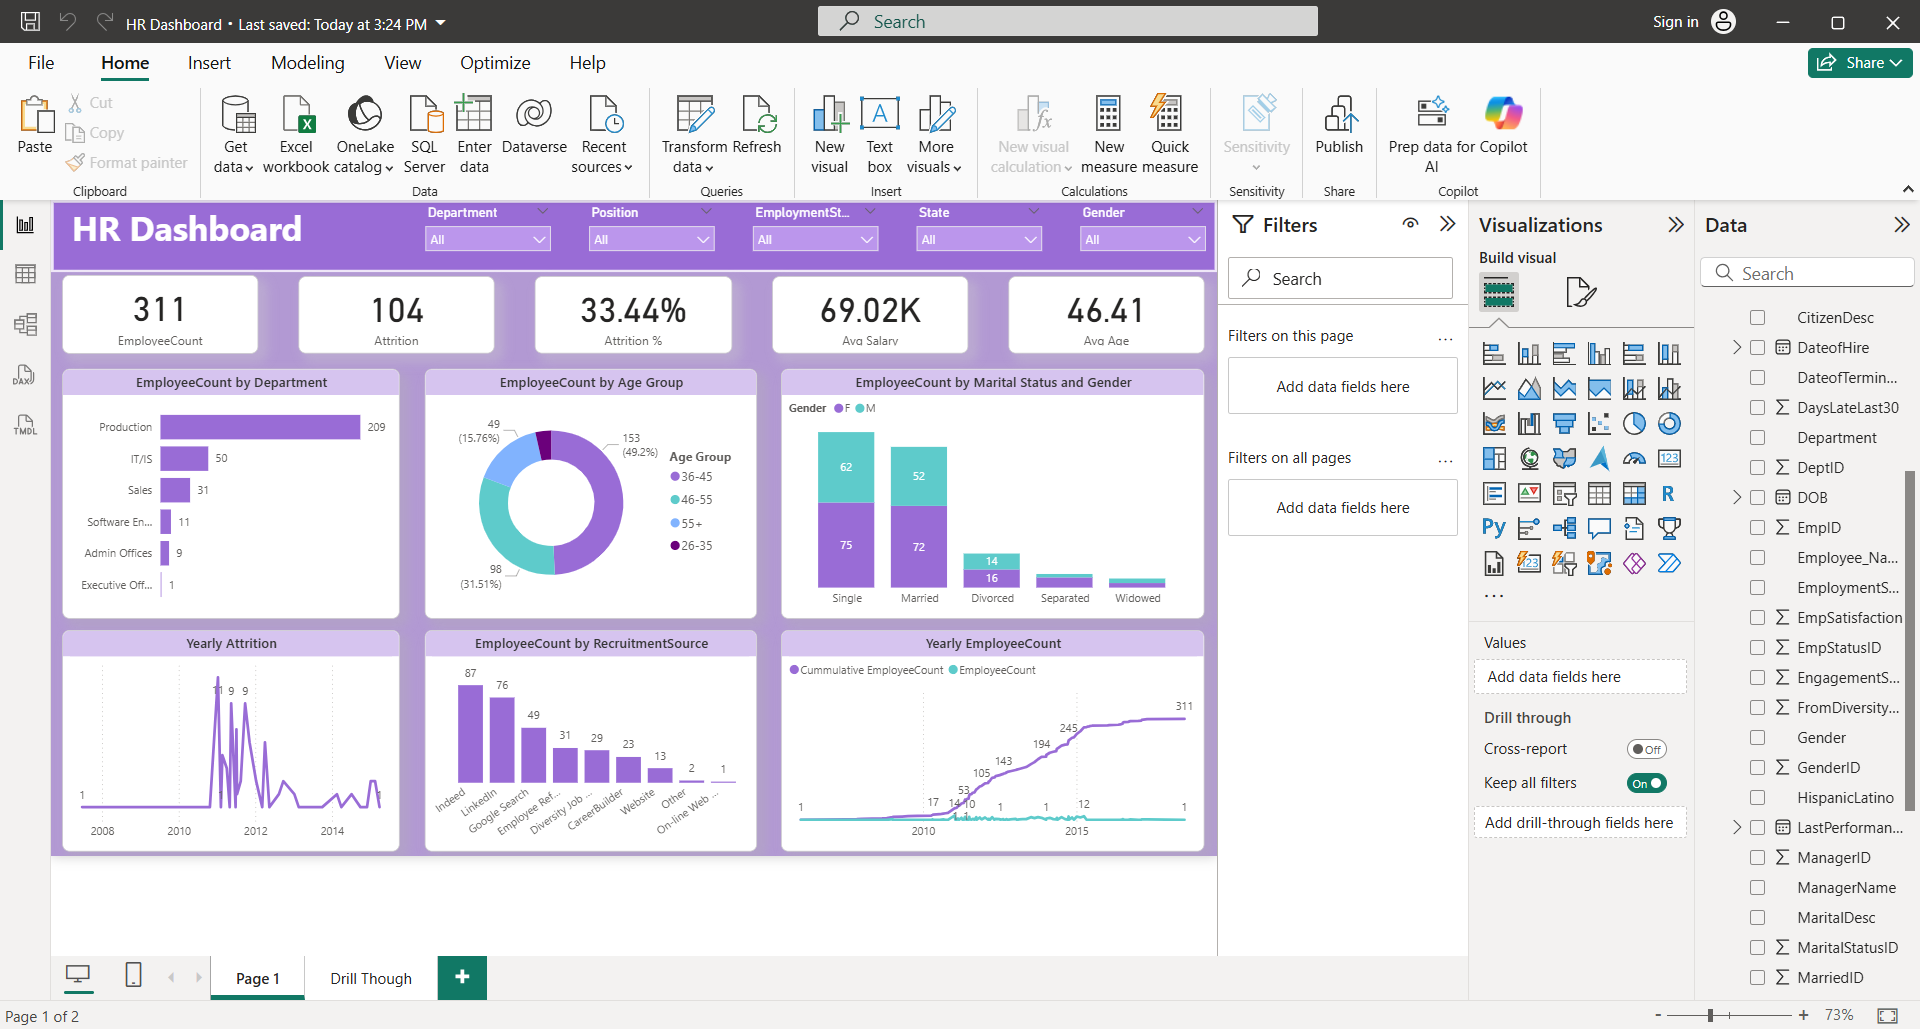

What the dashboard file says about the page in this screenshot:
{"tool":"powerbi","page":{"name":"HR","canvas":[1280,720],"ordinal":0},"visuals":[{"type":"shape","box":[0,0,1280.3,79.6],"z":0},{"type":"card","fields":{"Values":["Measure.EmployeeCount"]},"box":[12.3,82.3,215.4,86.4],"z":1000},{"type":"card","fields":{"Values":["Measure.Attrition"]},"box":[271.7,83.7,215.4,85.1],"z":2000},{"type":"card","fields":{"Values":["Measure.Attrition %"]},"box":[531,83.7,216.8,85.1],"z":3000},{"type":"card","fields":{"Values":["Measure.Avg Salary"]},"box":[791.8,83.7,215.4,85.1],"z":4000},{"type":"card","fields":{"Values":["Measure.Avg Age"]},"box":[1051.1,83.7,215.4,85.1],"z":5000},{"type":"clusteredBarChart","fields":{"Y":["Measure.EmployeeCount"],"Category":["HRDataset_v14.Department"]},"box":[12.3,185.2,370.5,274.4],"z":6000},{"type":"donutChart","fields":{"Category":["HRDataset_v14.Age Group"],"Y":["Measure.EmployeeCount"]},"box":[409.6,185.2,365,274.4],"z":7000},{"type":"columnChart","title":"EmployeeCount by Marital Status and Gender","fields":{"Category":["HRDataset_v14.MaritalDesc"],"Y":["Measure.EmployeeCount"],"Series":["HRDataset_v14.Gender"]},"box":[801.4,185.2,465.2,274.4],"z":8000},{"type":"lineChart","title":"Yearly EmployeeCount","fields":{"Category":["HRDataset_v14.DateofHire"],"Y":["Measure.Cummulative EmployeeCount","Measure.EmployeeCount"]},"box":[801.4,472,465.2,242.9],"z":9000},{"type":"lineChart","title":"Yearly Attrition","fields":{"Category":["HRDataset_v14.DateofHire"],"Y":["Measure.Attrition"]},"box":[12.3,472,370.5,242.9],"z":10000},{"type":"columnChart","fields":{"Y":["Measure.EmployeeCount"],"Category":["HRDataset_v14.RecruitmentSource"]},"box":[410.3,472,365,242.9],"z":11000},{"type":"slicer","fields":{"Values":["HRDataset_v14.Gender"]},"box":[1120.3,0,158,68],"z":12000},{"type":"slicer","fields":{"Values":["HRDataset_v14.Position"]},"box":[581,0,158,68],"z":13000},{"type":"slicer","fields":{"Values":["HRDataset_v14.EmploymentStatus"]},"box":[760.8,0,158,68],"z":14000},{"type":"slicer","fields":{"Values":["HRDataset_v14.State"]},"box":[940.5,0,158,68],"z":15000},{"type":"slicer","fields":{"Values":["HRDataset_v14.Department"]},"box":[401.2,0,158,68],"z":16000},{"type":"textbox","box":[0,0,299.1,79.6],"z":16001}]}

Visuals, with their boxes on the page's 1280x720 design canvas (x1, y1, x2, y2). These are canvas units, not pixel positions in the 1920x1029 screenshot, which may show the page scaled, cropped or inside an application window:
shape: [left=0, top=0, right=1280, bottom=80]
card - Measure.EmployeeCount: [left=12, top=82, right=228, bottom=169]
card - Measure.Attrition: [left=272, top=84, right=487, bottom=169]
card - Measure.Attrition %: [left=531, top=84, right=748, bottom=169]
card - Measure.Avg Salary: [left=792, top=84, right=1007, bottom=169]
card - Measure.Avg Age: [left=1051, top=84, right=1266, bottom=169]
clusteredBarChart - Measure.EmployeeCount x HRDataset_v14.Department: [left=12, top=185, right=383, bottom=460]
donutChart - HRDataset_v14.Age Group x Measure.EmployeeCount: [left=410, top=185, right=775, bottom=460]
"EmployeeCount by Marital Status and Gender" columnChart: [left=801, top=185, right=1267, bottom=460]
"Yearly EmployeeCount" lineChart: [left=801, top=472, right=1267, bottom=715]
"Yearly Attrition" lineChart: [left=12, top=472, right=383, bottom=715]
columnChart - Measure.EmployeeCount x HRDataset_v14.RecruitmentSource: [left=410, top=472, right=775, bottom=715]
slicer - HRDataset_v14.Gender: [left=1120, top=0, right=1278, bottom=68]
slicer - HRDataset_v14.Position: [left=581, top=0, right=739, bottom=68]
slicer - HRDataset_v14.EmploymentStatus: [left=761, top=0, right=919, bottom=68]
slicer - HRDataset_v14.State: [left=940, top=0, right=1098, bottom=68]
slicer - HRDataset_v14.Department: [left=401, top=0, right=559, bottom=68]
textbox: [left=0, top=0, right=299, bottom=80]
